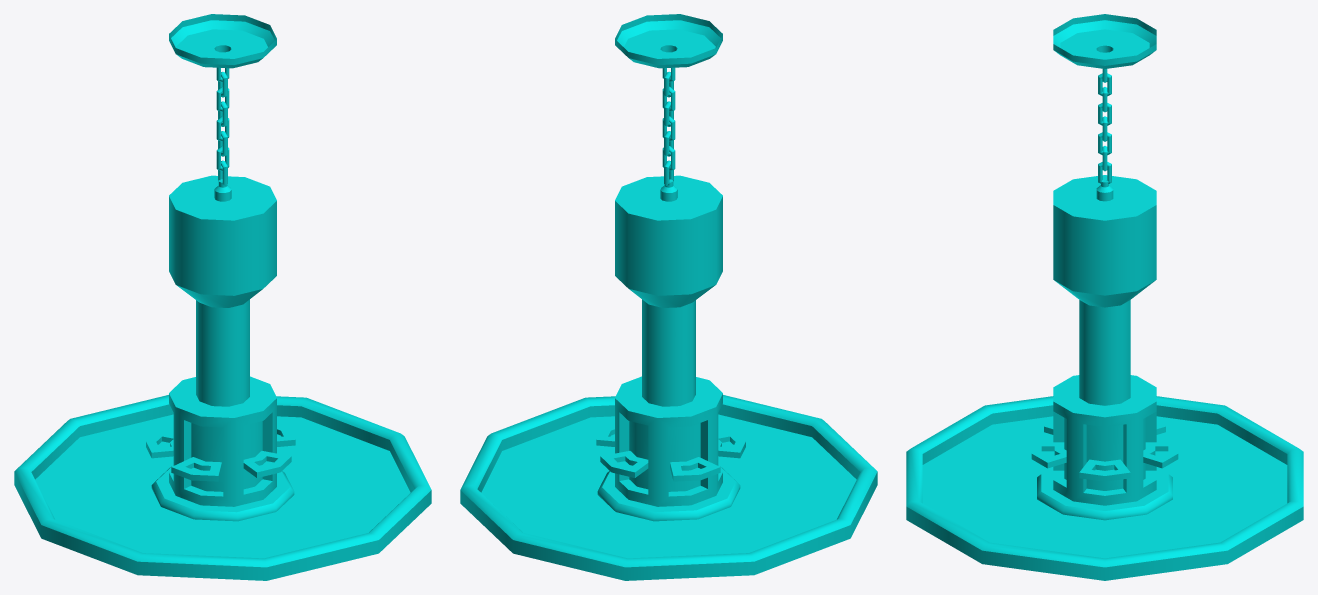
Rendered from Pillar.fbx.
3 renders of one model, left to right at view 1: azimuth 30°, elevation 25°; view 2: azimuth 150°, elevation 25°; view 3: azimuth 270°, elevation 25°, orthographic.
Visible parts, largest first — view 1: Pillar; view 2: Pillar; view 3: Pillar.
Boxes of the visible parts, box(x1,y1,x2,y2) form: Pillar: box(14, 14, 431, 580); Pillar: box(460, 14, 877, 580); Pillar: box(906, 14, 1303, 580).
Bounding box in the file's own units: 7.71 × 9.28 × 7.33.
